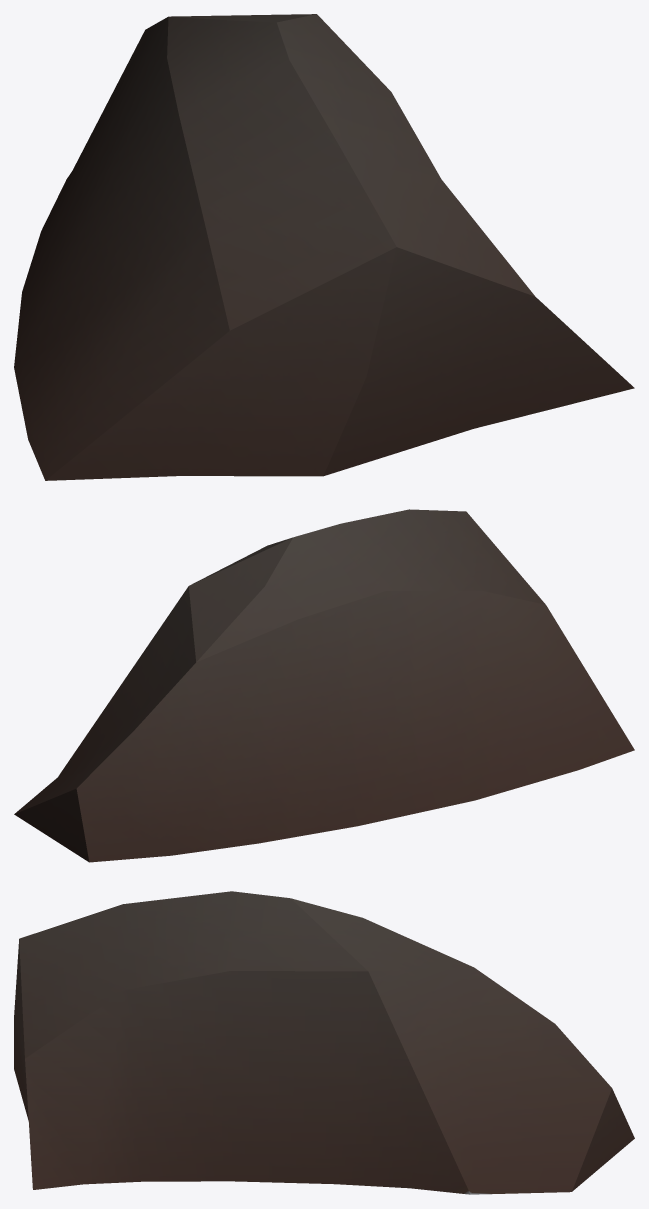
Rendered from Mountain_Stone_Dark_001.FBX.
3 views of the same model, one above another, from view 1: azimuth 30°, elevation 25°; view 2: azimuth 150°, elevation 25°; view 3: azimuth 270°, elevation 25° (orthographic). The views are drawn at different scales.
Visible parts, largest first — view 1: Mountain_Stone_Dark_001; view 2: Mountain_Stone_Dark_001; view 3: Mountain_Stone_Dark_001.
Boxes of the visible parts, <box> form: Mountain_Stone_Dark_001: <box>14,14,634,480</box>; Mountain_Stone_Dark_001: <box>14,509,634,862</box>; Mountain_Stone_Dark_001: <box>14,891,634,1194</box>.
Size of the model in its own units: 427 by 215 by 547.
Materials: 1 (1 with a texture image).
